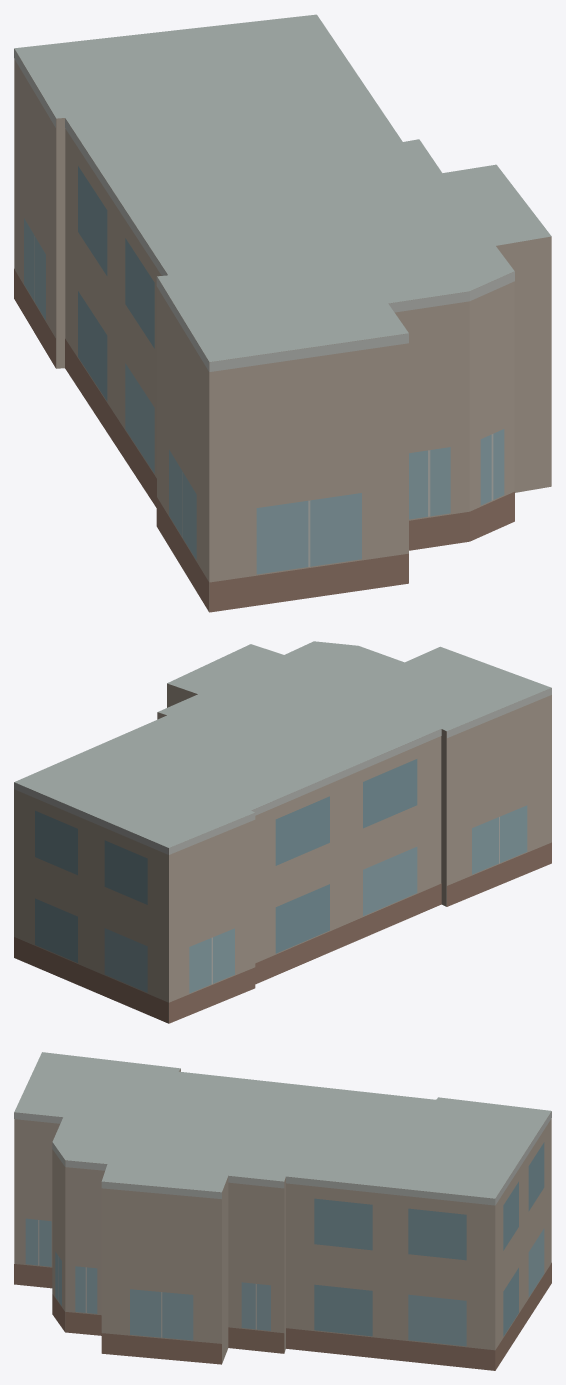
Rendered from survey-upis-32698161.glb.
The picture shows the model from 3 angles, top to bottom: view 1: azimuth 30°, elevation 25°; view 2: azimuth 150°, elevation 25°; view 3: azimuth 270°, elevation 25°; orthographic projection. The views are drawn at different scales.
Parts seen in each view (by area): view 1: survey-upis-32698161.tmp; view 2: survey-upis-32698161.tmp; view 3: survey-upis-32698161.tmp.
Boxes of the visible parts, x1,y1,x2,y2 form: survey-upis-32698161.tmp: (14, 14, 551, 612); survey-upis-32698161.tmp: (14, 641, 551, 1023); survey-upis-32698161.tmp: (14, 1052, 551, 1370).
Size of the model in its own units: 11.15 by 6.1 by 17.28.
